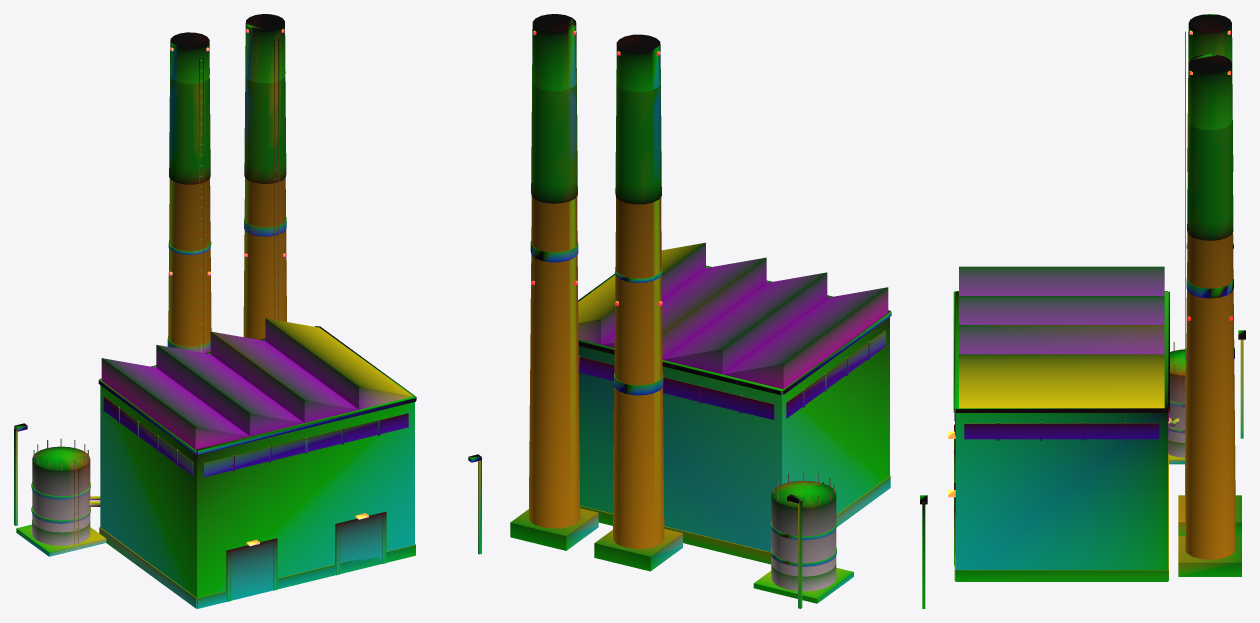
File: Ind_Stacks_V3.fbx
3 renders of one model, left to right at view 1: azimuth 30°, elevation 25°; view 2: azimuth 150°, elevation 25°; view 3: azimuth 270°, elevation 25°, orthographic. The views are drawn at different scales.
Parts seen in each view (by area): view 1: Ind_Stacks_V3_LOD0; view 2: Ind_Stacks_V3_LOD0; view 3: Ind_Stacks_V3_LOD0.
Boxes of the visible parts, left/top/right/bottom form: Ind_Stacks_V3_LOD0: left=14, top=14, right=481, bottom=608; Ind_Stacks_V3_LOD0: left=510, top=14, right=891, bottom=608; Ind_Stacks_V3_LOD0: left=920, top=14, right=1245, bottom=608.
Size of what is drawn, in the model's own units: 39.05 by 52 by 30.7.
